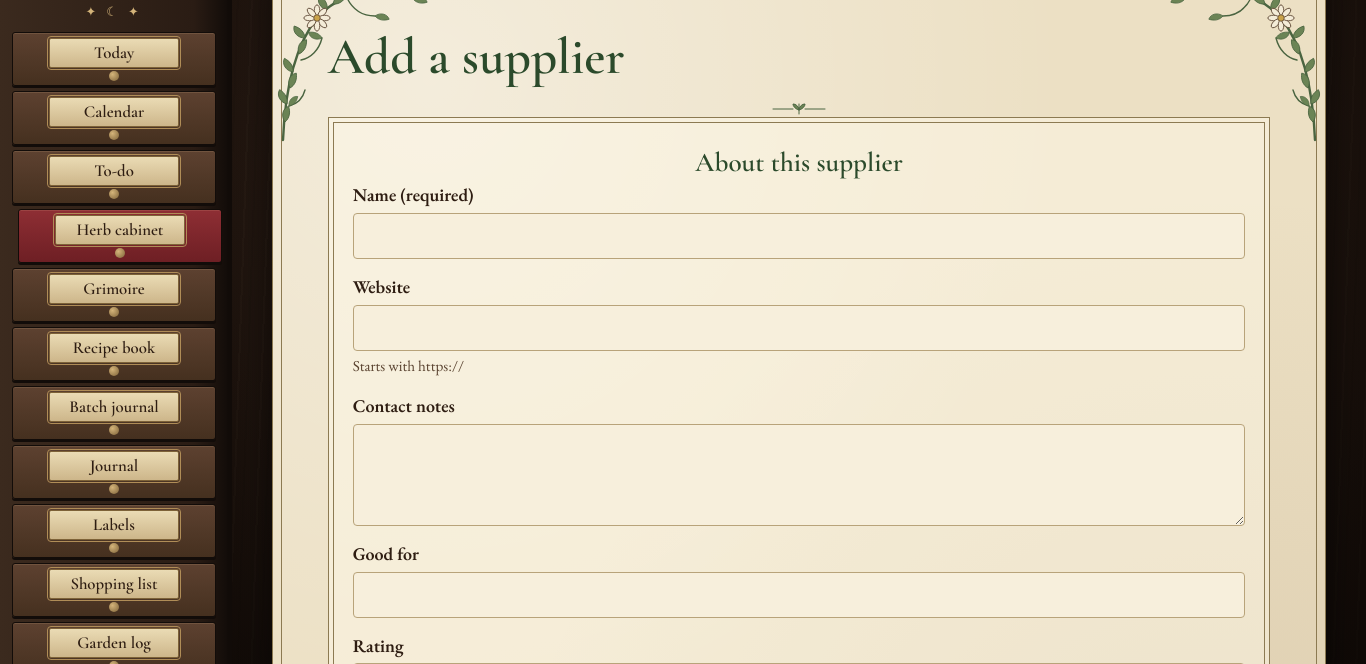
shows server field errors
Type "x" into the field labelled "Name (required)" at (799, 236), box [353,213,1245,259]
(page scrolled)
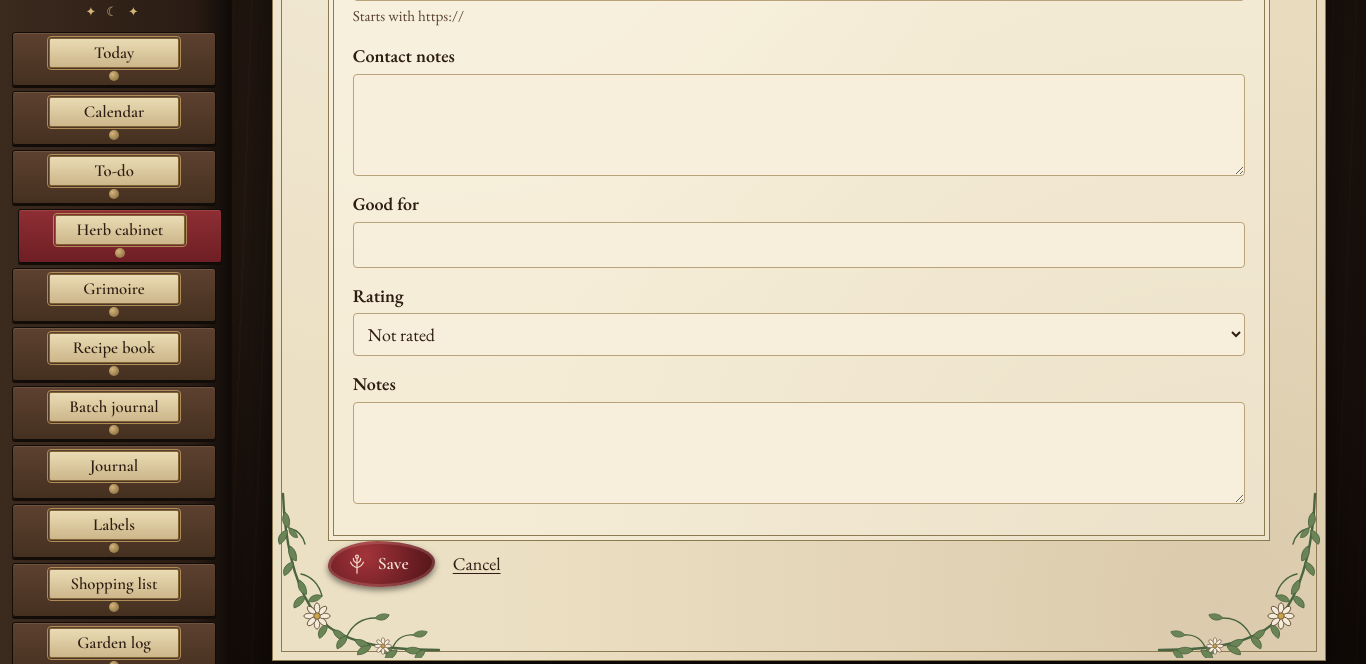
Click the button "Save" at (381, 564), box [328,541,435,587]
(page scrolled)
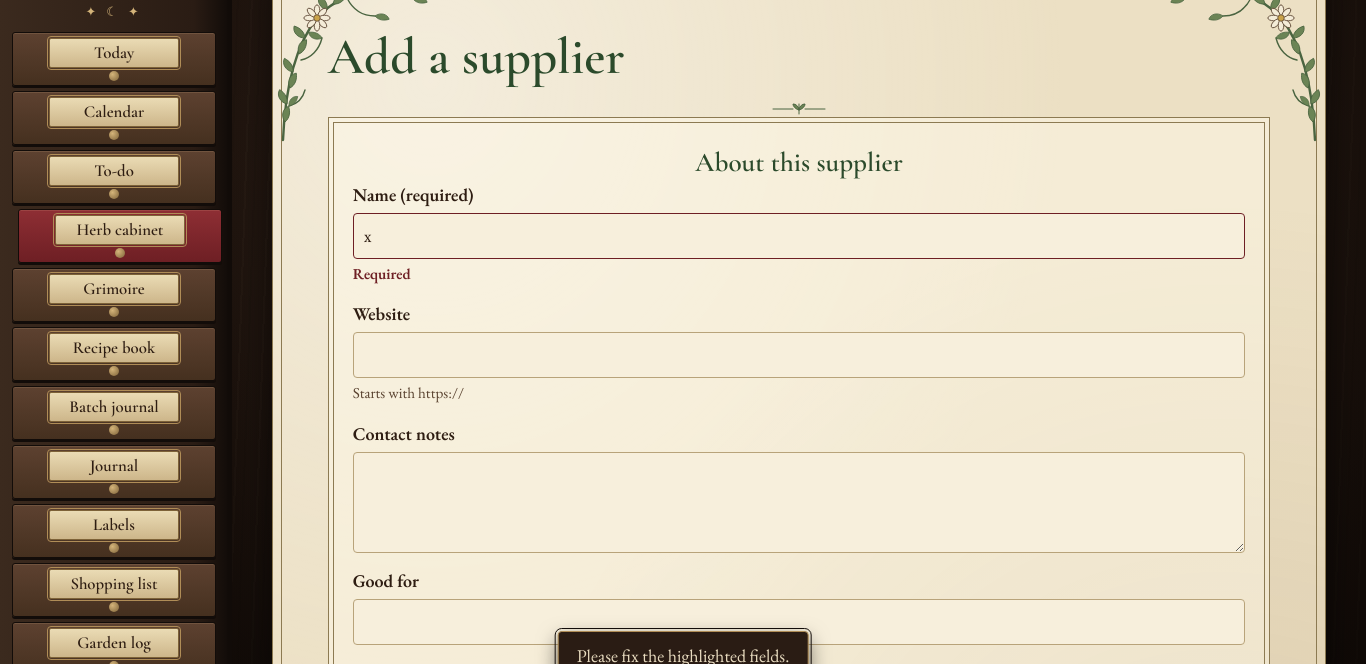
Check: the text "Required" is shown, box [353,264,411,284]
